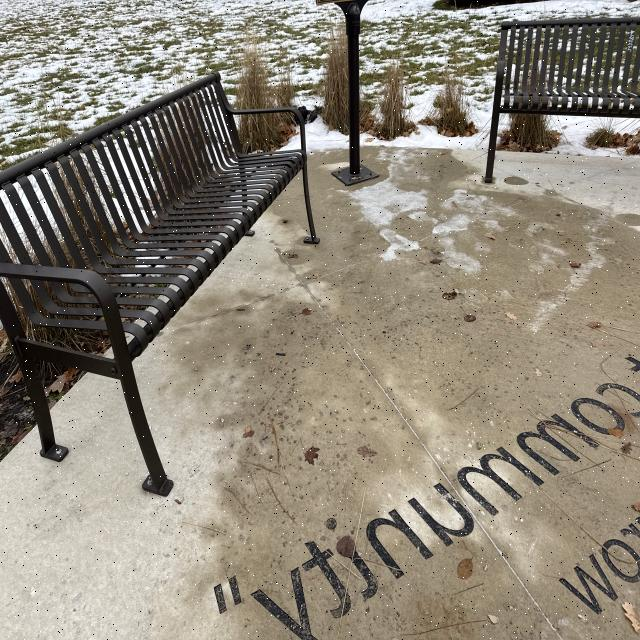Bench: (0, 57, 314, 491), (492, 19, 638, 175)
